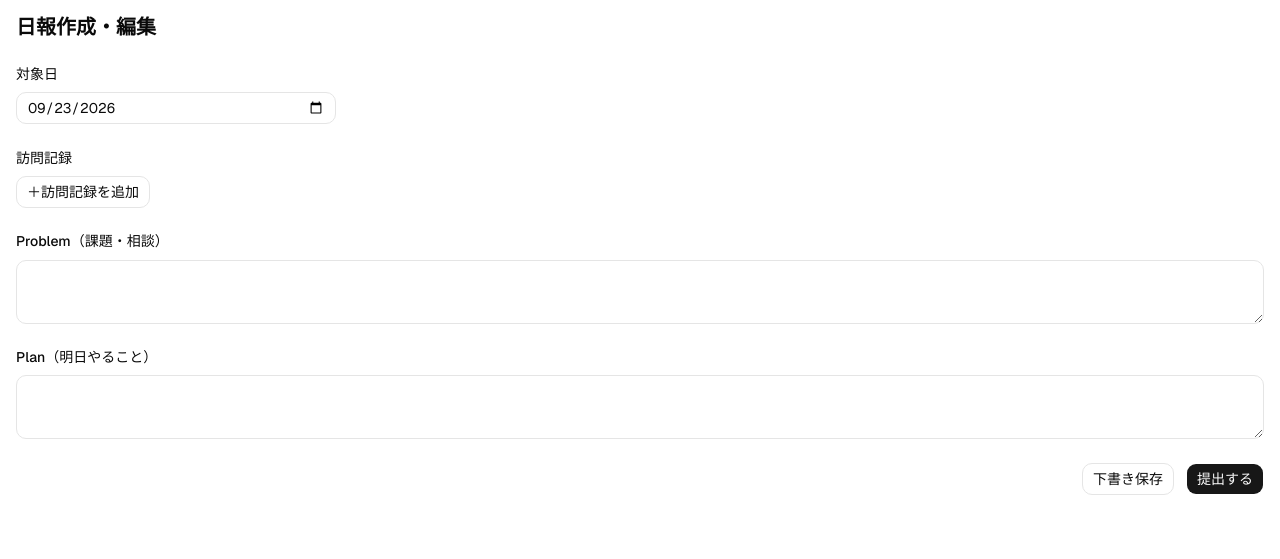
ReportForm (create mode) › rejects submitting with zero visit records (TC-SCR02-05)
Click the button "提出する" at [1225, 479], box left=1186, top=463, right=1264, bottom=495
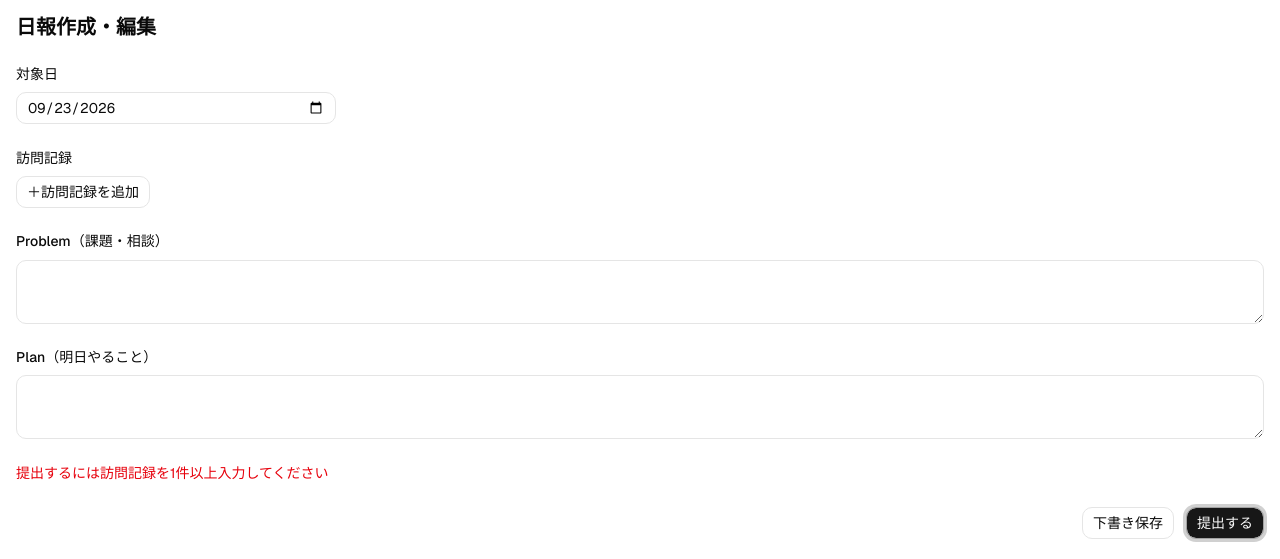
Expected: the text "提出するには訪問記録を1件以上入力してください" is shown, left=16, top=464, right=328, bottom=482
